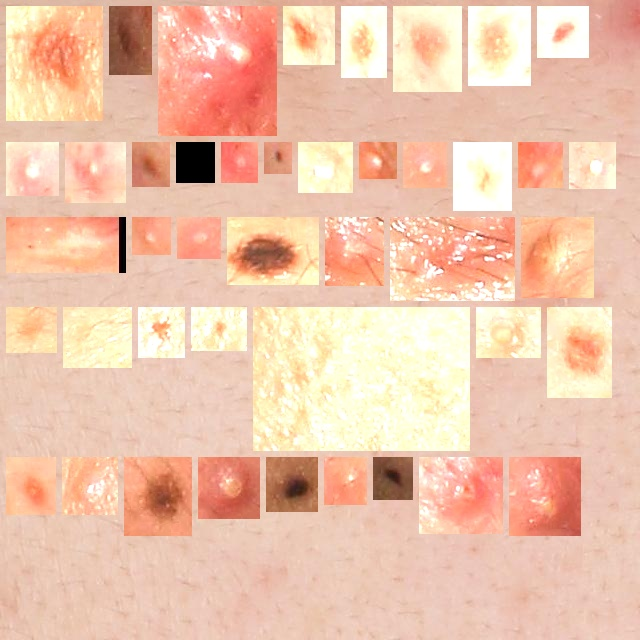hypertrophic_scar: (14, 225, 118, 265)
melasma: (261, 315, 462, 443), (71, 315, 124, 360), (199, 315, 239, 343), (146, 315, 177, 350), (14, 315, 49, 345)
nevus: (14, 14, 95, 113), (235, 225, 311, 277), (401, 14, 454, 84), (555, 315, 604, 390), (132, 465, 184, 528), (476, 14, 523, 78), (461, 150, 504, 203), (349, 14, 379, 70), (291, 14, 327, 57), (117, 14, 144, 67), (14, 465, 48, 507), (274, 465, 310, 504), (545, 14, 581, 50), (381, 465, 405, 492), (140, 150, 162, 179), (184, 150, 207, 175), (272, 150, 284, 166)
pustule: (166, 14, 269, 128), (398, 225, 507, 293), (427, 465, 495, 526), (529, 225, 586, 290), (517, 465, 573, 528), (333, 225, 376, 278), (206, 465, 252, 511), (73, 150, 118, 195), (484, 315, 533, 350), (70, 465, 110, 507), (14, 150, 51, 188), (306, 150, 345, 185), (577, 150, 608, 181), (526, 150, 555, 180), (332, 465, 359, 497), (411, 150, 439, 180), (185, 225, 213, 251), (229, 150, 250, 175), (140, 225, 163, 247), (367, 150, 389, 171)
